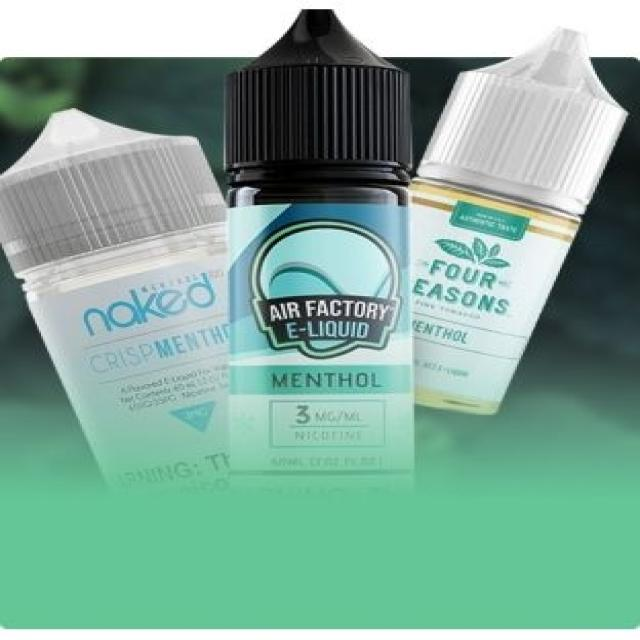Vapes: (220, 6, 416, 477)
